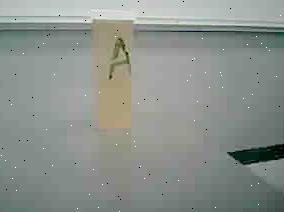Bottle A: (82, 1, 150, 144)
